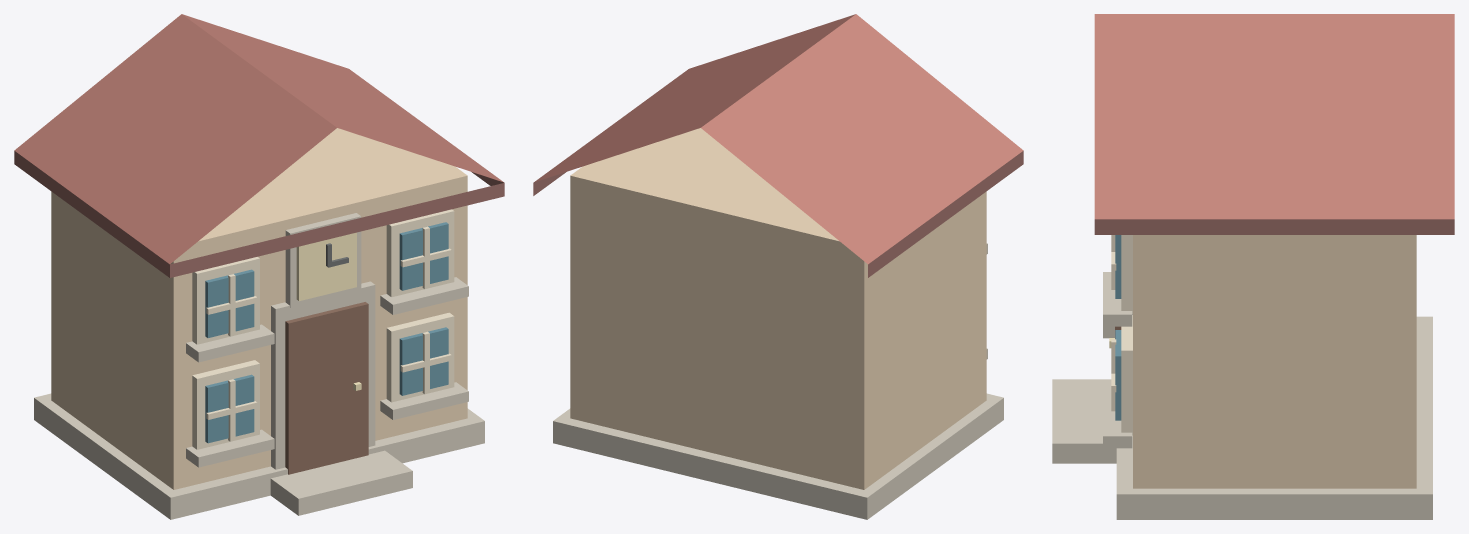
Rendered from municipality_1985.gltf.
The picture shows the model from 3 angles, left to right: view 1: azimuth 30°, elevation 25°; view 2: azimuth 150°, elevation 25°; view 3: azimuth 270°, elevation 25°; orthographic projection. The views are drawn at different scales.
Visible parts, largest first — view 1: Municipality_1985; view 2: Municipality_1985; view 3: Municipality_1985.
Boxes of the visible parts, x1,y1,x2,y2 form: Municipality_1985: [14, 14, 504, 519]; Municipality_1985: [533, 14, 1023, 519]; Municipality_1985: [1052, 14, 1454, 519].
Bounding box in the file's own units: 4.1 × 4.22 × 3.69.
